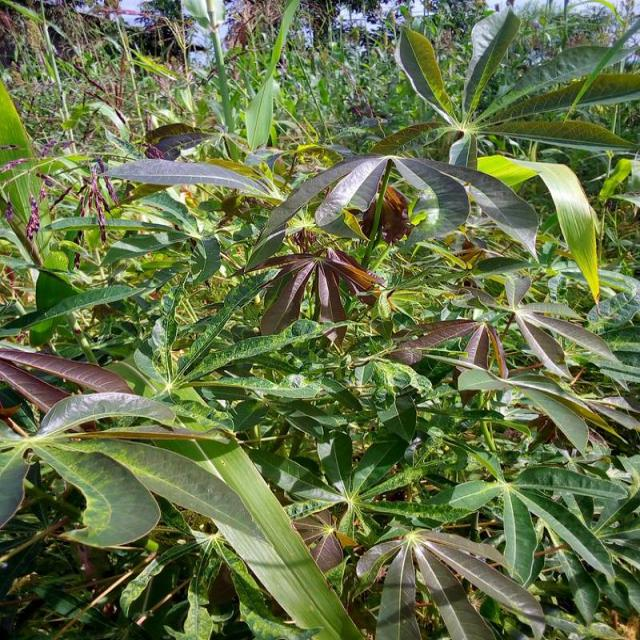cassava leaf: (0, 5, 638, 638), (18, 390, 363, 638), (250, 152, 539, 273)
